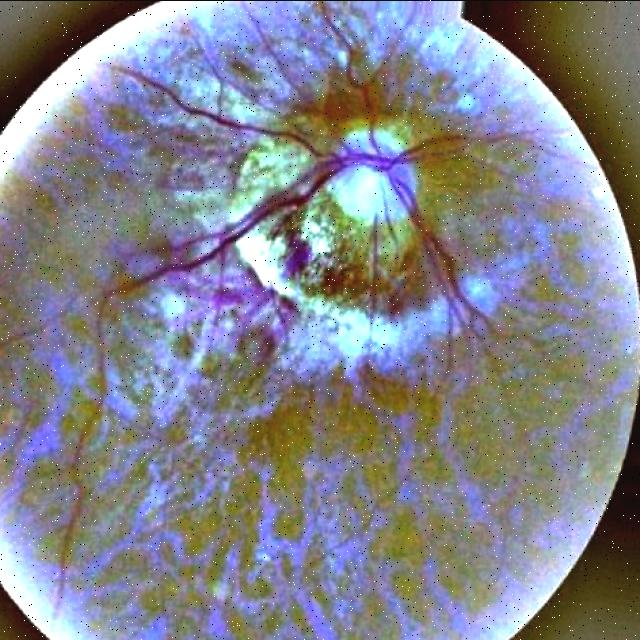Optic Disk: (236, 117, 433, 312)
